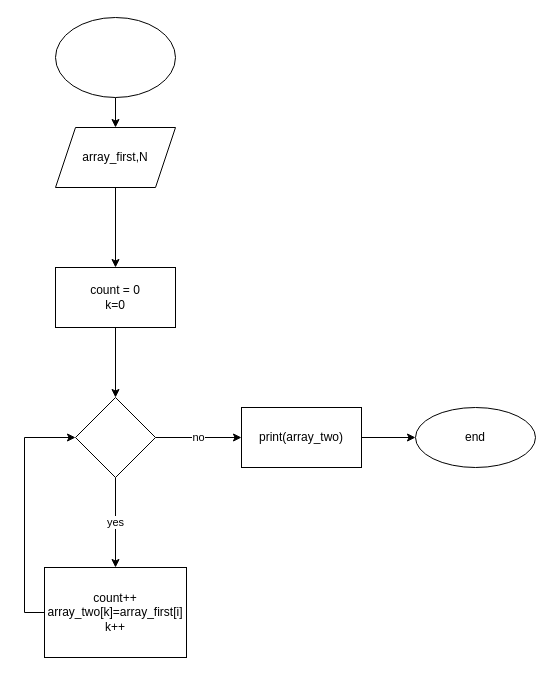
Image size: 553x675. Some labels were removed from this diagram. Here are the shapes that lost their labels. From the top down, the box of each, then its label:
(54, 16, 176, 98): Begin
(74, 396, 156, 478): array[i]<4
